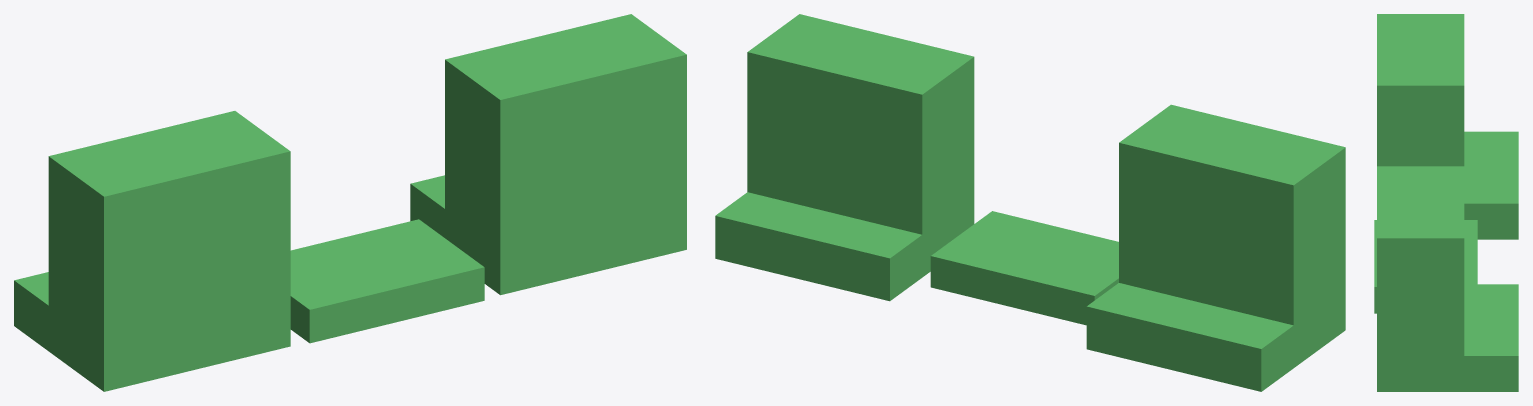
The model's file is parapet_destroyed_gap_collision.glb.
The picture shows the model from 3 angles, left to right: view 1: azimuth 30°, elevation 25°; view 2: azimuth 150°, elevation 25°; view 3: azimuth 270°, elevation 25°; orthographic projection. The views are drawn at different scales.
Parts seen in each view (by area): view 1: parapet_destroyed_gap_left_wall-col, parapet_destroyed_gap_right_wall-col, parapet_destroyed_gap_low_rubble-col, parapet_destroyed_gap_left_step-col, parapet_destroyed_gap_right_step-col; view 2: parapet_destroyed_gap_left_wall-col, parapet_destroyed_gap_right_wall-col, parapet_destroyed_gap_left_step-col, parapet_destroyed_gap_right_step-col, parapet_destroyed_gap_low_rubble-col; view 3: parapet_destroyed_gap_right_wall-col, parapet_destroyed_gap_left_wall-col, parapet_destroyed_gap_right_step-col, parapet_destroyed_gap_left_step-col, parapet_destroyed_gap_low_rubble-col.
Boxes of the visible parts, x1,y1,x2,y2 form: parapet_destroyed_gap_left_wall-col: (48,111,290,391); parapet_destroyed_gap_right_wall-col: (445,14,686,295); parapet_destroyed_gap_low_rubble-col: (290,219,484,343); parapet_destroyed_gap_left_step-col: (14,272,54,354); parapet_destroyed_gap_right_step-col: (410,175,450,241); parapet_destroyed_gap_left_wall-col: (1119,104,1345,363); parapet_destroyed_gap_right_wall-col: (747,14,974,277); parapet_destroyed_gap_left_step-col: (1086,283,1299,391); parapet_destroyed_gap_right_step-col: (715,192,927,301); parapet_destroyed_gap_low_rubble-col: (930,211,1118,325); parapet_destroyed_gap_right_wall-col: (1377,166,1464,391); parapet_destroyed_gap_left_wall-col: (1377,14,1464,166); parapet_destroyed_gap_right_step-col: (1455,284,1518,391); parapet_destroyed_gap_left_step-col: (1464,131,1518,239); parapet_destroyed_gap_low_rubble-col: (1374,220,1477,313).
Bounding box in the file's own units: 4 × 1.28 × 1.09.
